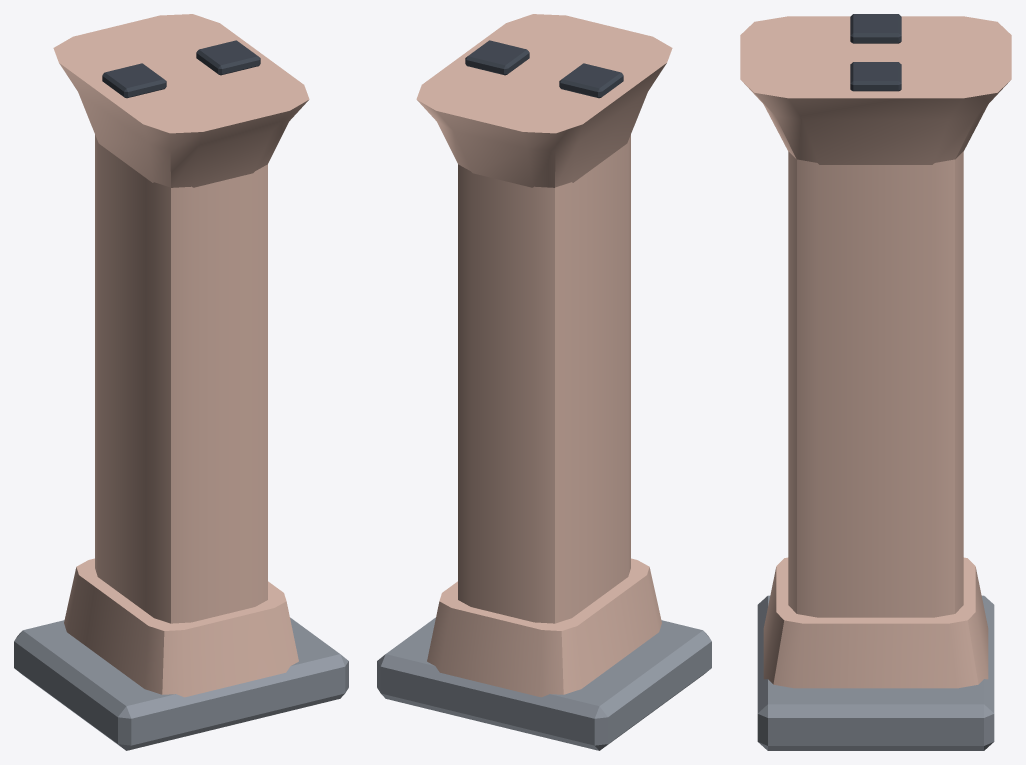
The model's file is trem_pilar.glb.
The picture shows the model from 3 angles, left to right: view 1: azimuth 30°, elevation 25°; view 2: azimuth 150°, elevation 25°; view 3: azimuth 270°, elevation 25°; orthographic projection. The views are drawn at different scales.
Visible parts, largest first — view 1: trem_pilar; view 2: trem_pilar; view 3: trem_pilar.
Boxes of the visible parts, box(x1,y1,x2,y2) form: trem_pilar: box(14, 14, 348, 750); trem_pilar: box(377, 14, 711, 750); trem_pilar: box(740, 14, 1011, 750).
Bounding box in the file's own units: 2.7 × 6.95 × 2.63.
Materials: 2 (1 with a texture image).
